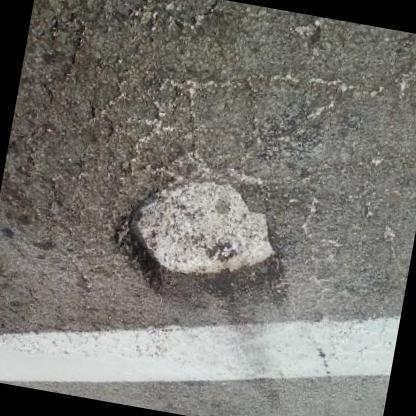pothole: (102, 156, 298, 320)
